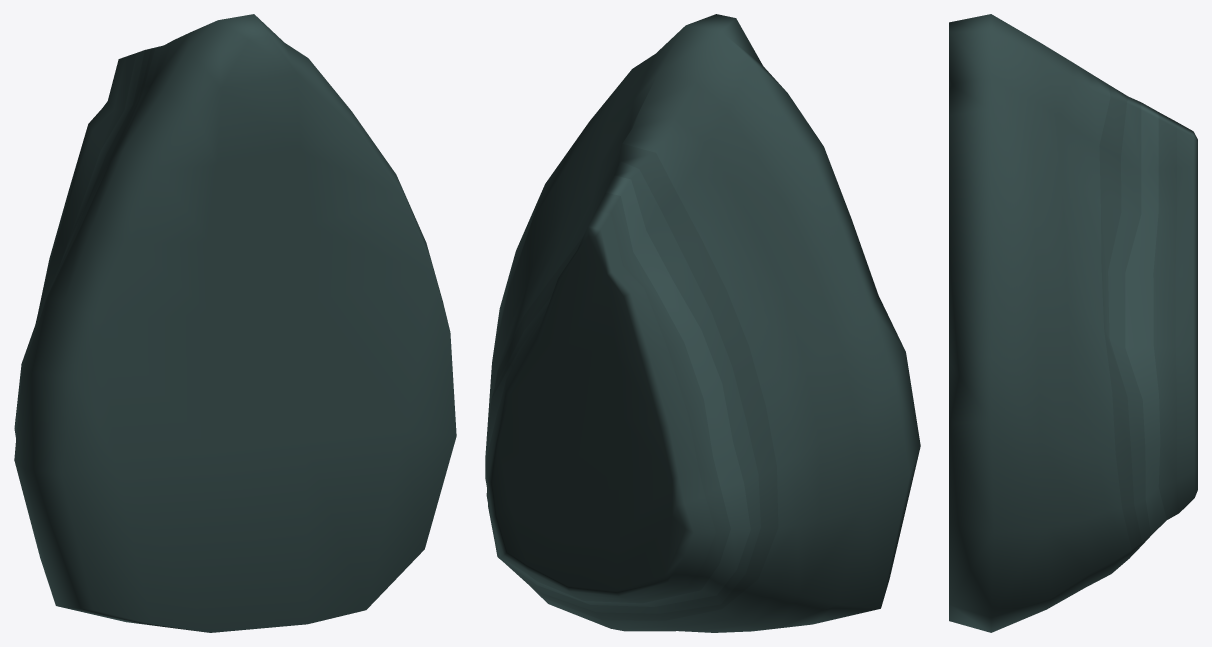
Rendered from AlienCliff.003.glb.
3 renders of one model, left to right at view 1: azimuth 30°, elevation 25°; view 2: azimuth 150°, elevation 25°; view 3: azimuth 270°, elevation 25°, orthographic. The views are drawn at different scales.
Parts seen in each view (by area): view 1: AlienCliff.003; view 2: AlienCliff.003; view 3: AlienCliff.003.
Part boxes in pixels (box(x1,y1,x2,y2)): AlienCliff.003: box(14, 14, 456, 632); AlienCliff.003: box(485, 14, 920, 632); AlienCliff.003: box(949, 14, 1197, 632).
Bounding box in the file's own units: 5087 × 7114 × 2855.
